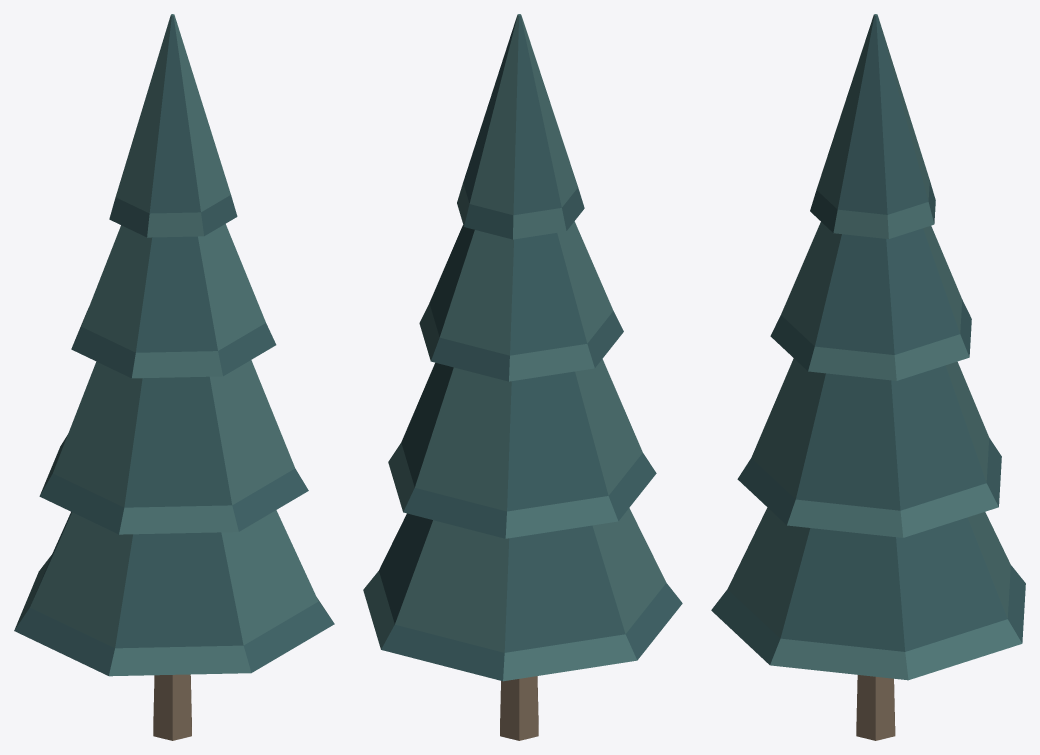
Rendered from ENV_F_Spruce.fbx.
3 views of the same model, side by side, from view 1: azimuth 30°, elevation 25°; view 2: azimuth 150°, elevation 25°; view 3: azimuth 270°, elevation 25° (orthographic).
Visible parts, largest first — view 1: ENV_F_Spruce; view 2: ENV_F_Spruce; view 3: ENV_F_Spruce.
Boxes of the visible parts, x1,y1,x2,y2 form: ENV_F_Spruce: (14,14,334,740); ENV_F_Spruce: (363,14,682,740); ENV_F_Spruce: (711,14,1025,740).
Size of the model in its own units: 244 by 600 by 239.
